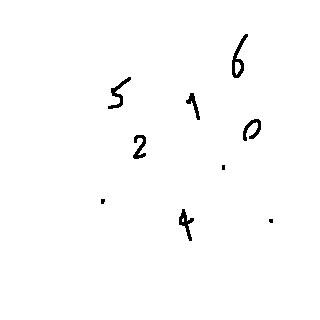.: (97, 190, 114, 212), (262, 211, 278, 233), (217, 159, 232, 173)
0: (232, 112, 270, 150)
1: (183, 85, 211, 130)
2: (126, 128, 160, 176)
4: (170, 200, 206, 255)
5: (97, 68, 139, 113)
6: (230, 29, 253, 84)
